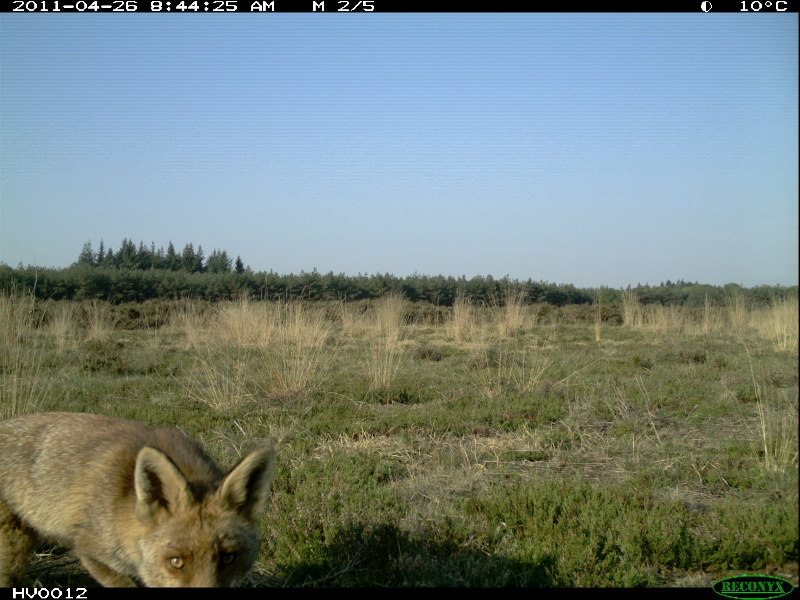fox: (1, 408, 286, 582)
